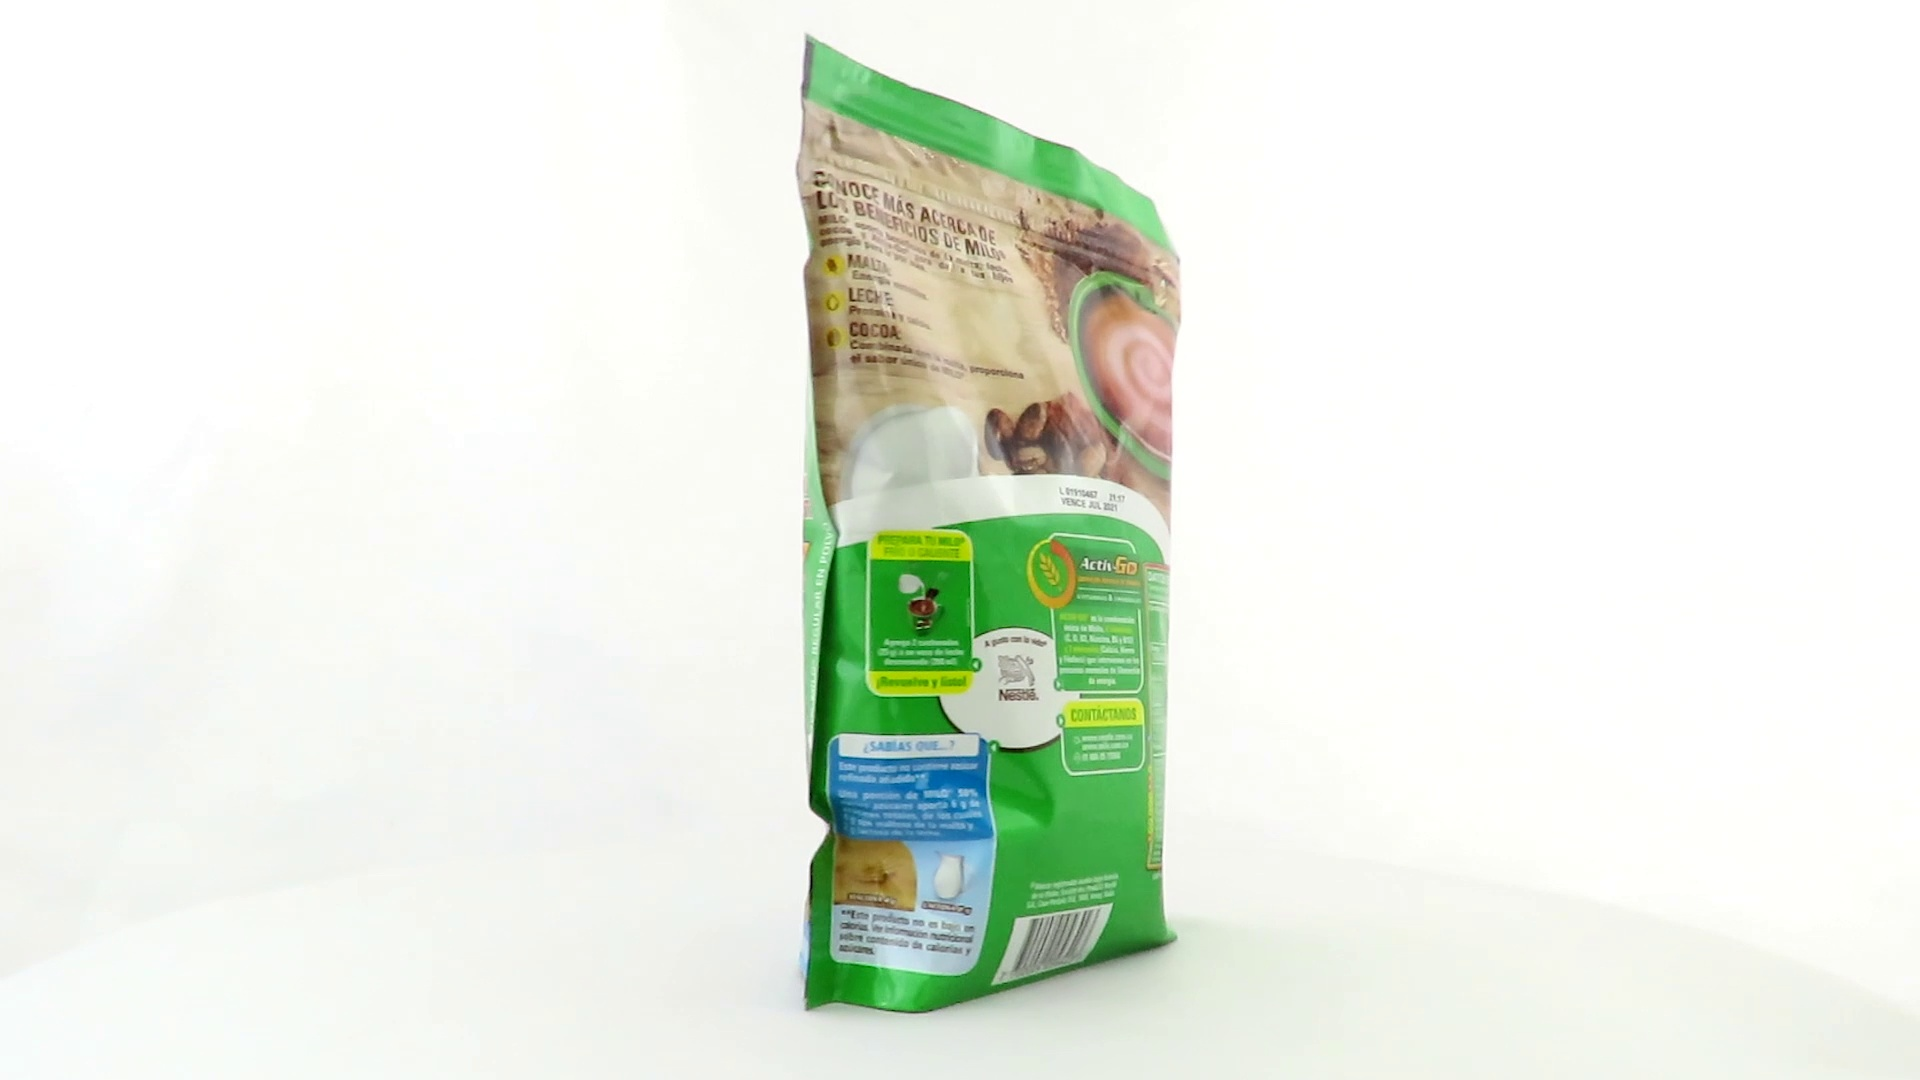COL0170205DYP50000: (790, 28, 1188, 1021)
